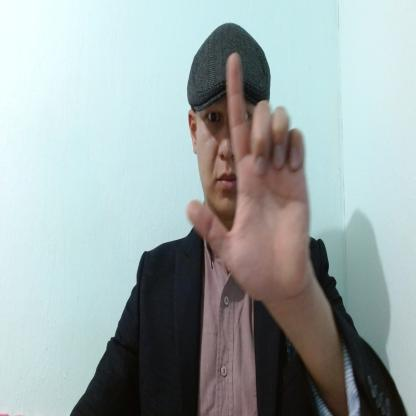L: (186, 53, 310, 302)
